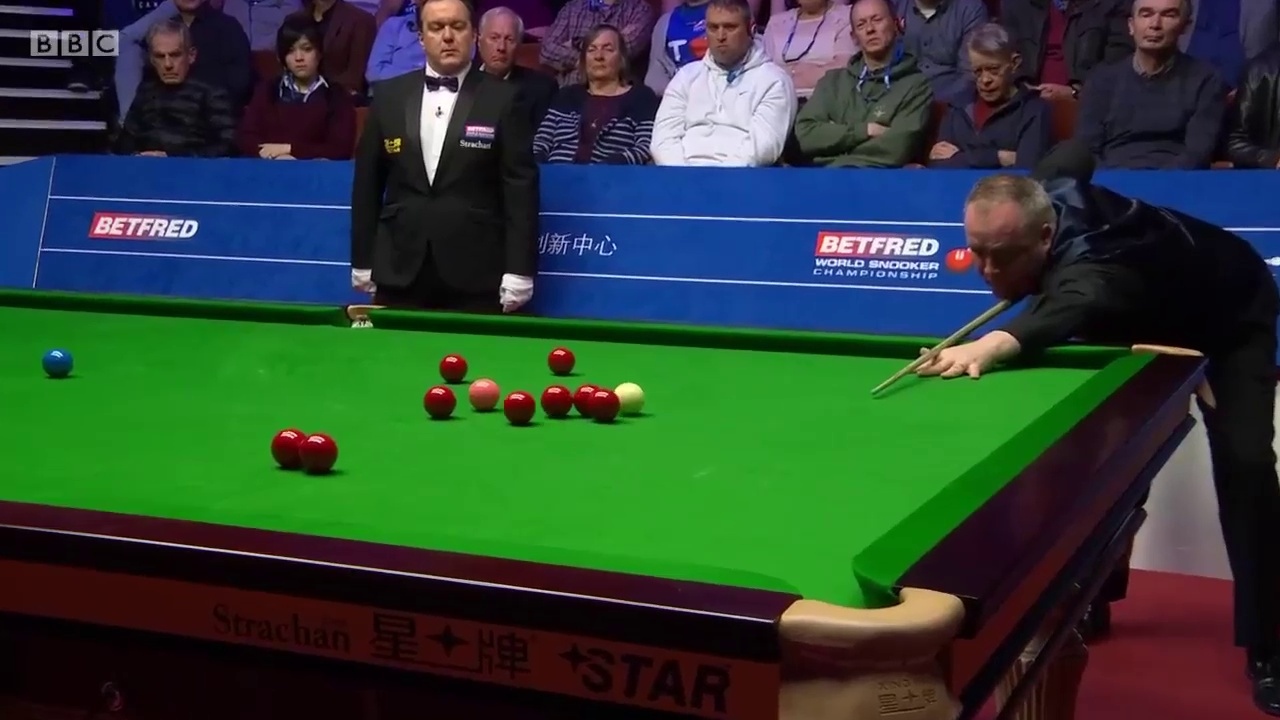blue: (43, 348, 74, 376)
pink: (467, 380, 495, 409)
red: (299, 433, 337, 474), (501, 392, 534, 424), (424, 387, 455, 420), (588, 389, 618, 422), (442, 353, 467, 383), (549, 346, 574, 373)
white: (617, 384, 645, 415)
